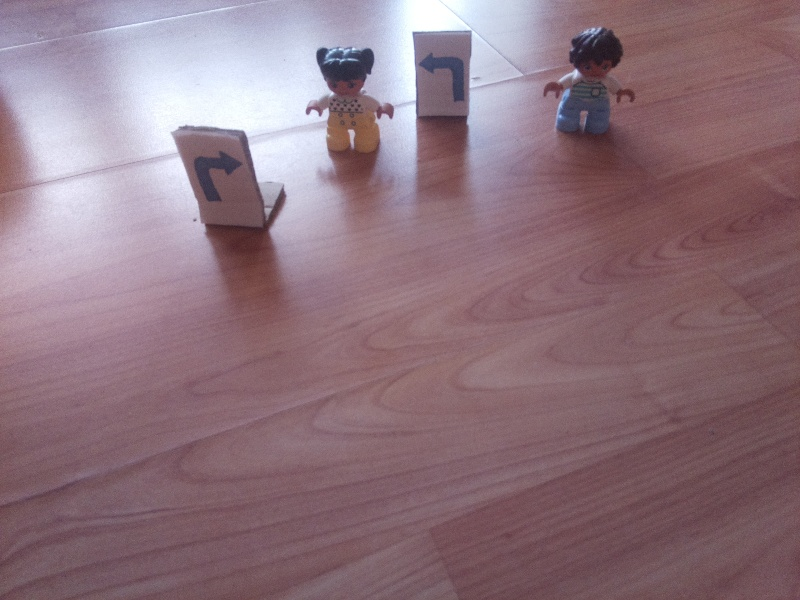person: (541, 25, 633, 135), (304, 46, 394, 154)
turn left: (418, 47, 470, 107)
turn right: (190, 144, 242, 206)
